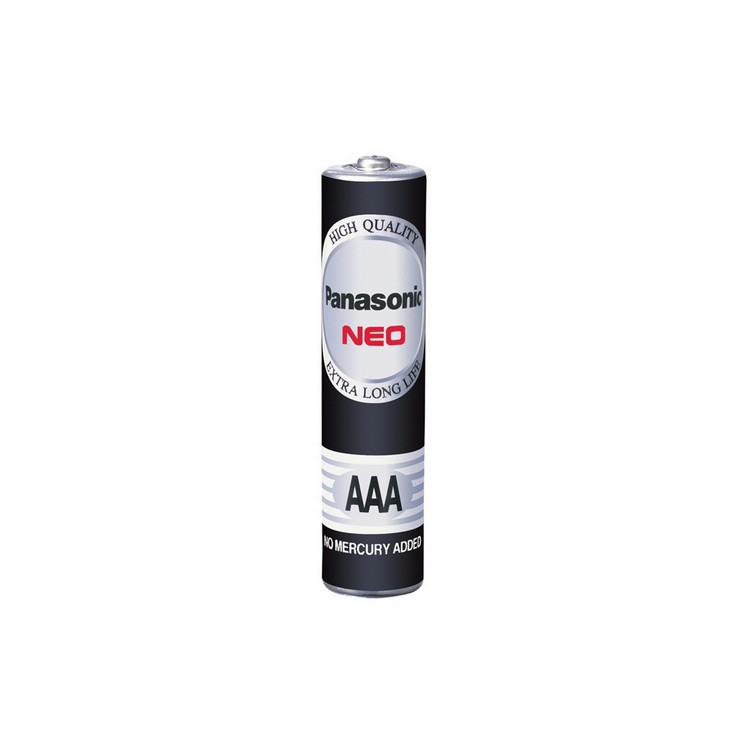Battery: (313, 147, 430, 605)
